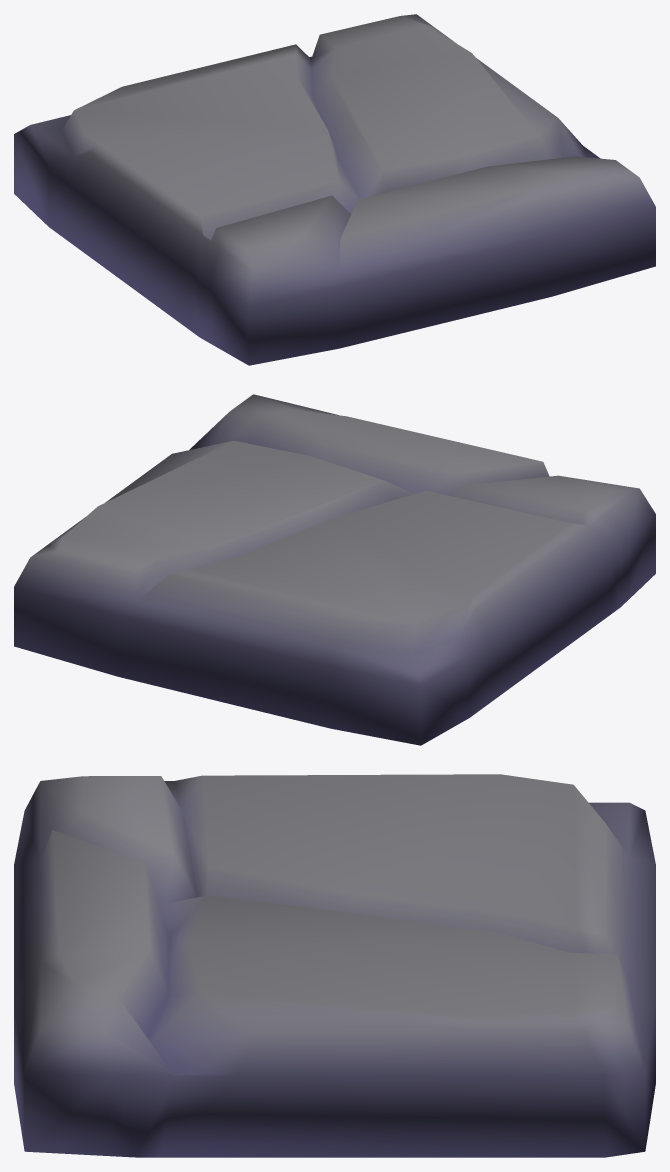
The model's file is floorTile2.fbx.
3 renders of one model, top to bottom at view 1: azimuth 30°, elevation 25°; view 2: azimuth 150°, elevation 25°; view 3: azimuth 270°, elevation 25°, orthographic. The views are drawn at different scales.
Parts seen in each view (by area): view 1: floorTile2; view 2: floorTile2; view 3: floorTile2.
Part boxes in pixels (bbox=[...]): floorTile2: bbox=[14, 14, 655, 365]; floorTile2: bbox=[14, 394, 655, 745]; floorTile2: bbox=[14, 774, 655, 1157].
Bounding box in the file's own units: 10 × 2.18 × 10.
